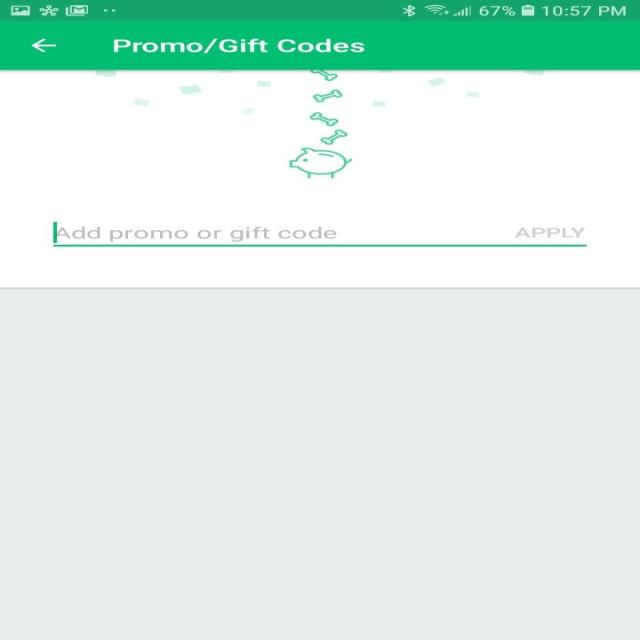EditText: (52, 221, 586, 247)
Icon: (30, 38, 56, 53)
Image: (95, 70, 543, 179)
Text: (57, 226, 337, 242), (113, 38, 364, 54), (514, 227, 585, 238)
